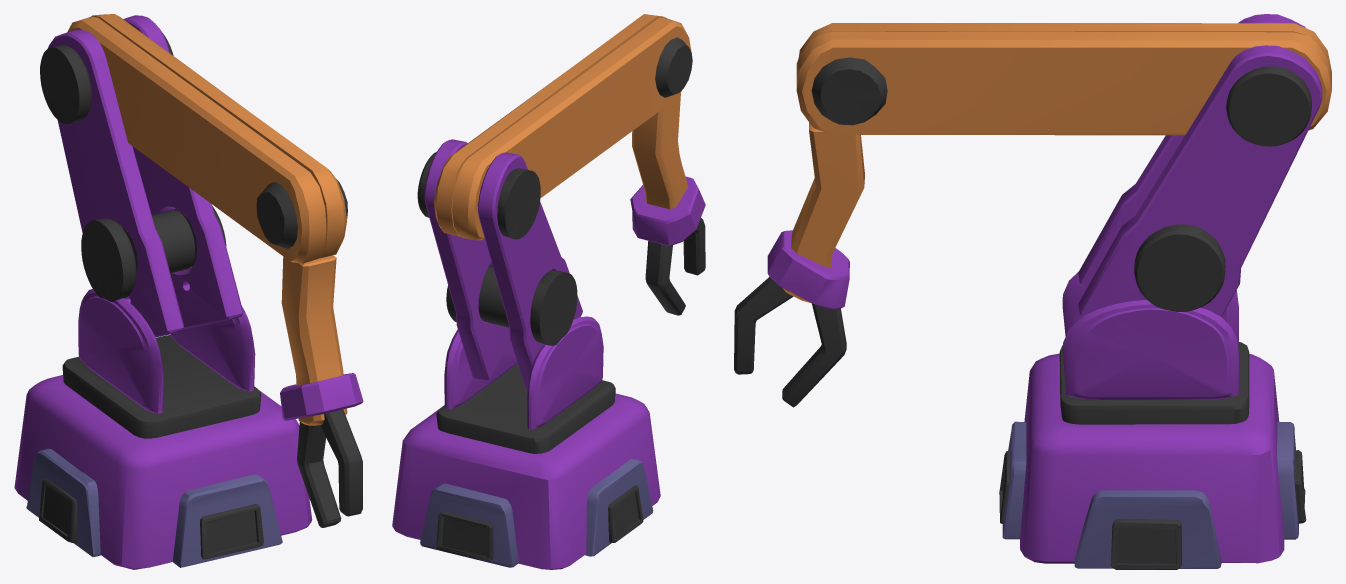
File: SM_Crane_01.fbx
3 views of the same model, side by side, from view 1: azimuth 30°, elevation 25°; view 2: azimuth 150°, elevation 25°; view 3: azimuth 270°, elevation 25° (orthographic). The views are drawn at different scales.
Parts seen in each view (by area): view 1: Cylinder; view 2: Cylinder; view 3: Cylinder.
Part boxes in pixels (x1,y1,x2,y2): Cylinder: [14, 14, 363, 569]; Cylinder: [392, 14, 705, 569]; Cylinder: [734, 14, 1331, 569].
Bounding box in the file's own units: 52.93 × 99.37 × 112.
